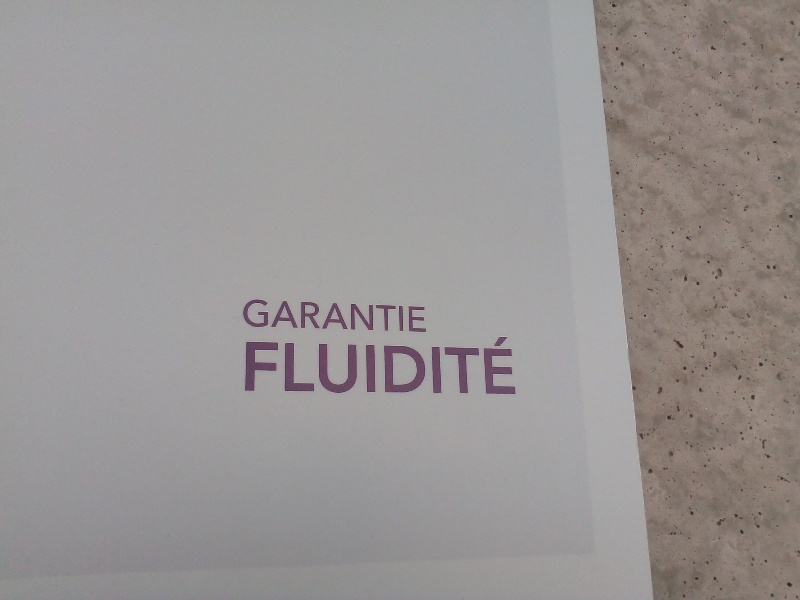text: (257, 334, 272, 395), (273, 334, 288, 395), (289, 334, 304, 395), (305, 334, 320, 395), (321, 334, 336, 395), (337, 334, 352, 395), (353, 334, 368, 395), (369, 334, 384, 395), (385, 334, 400, 395), (401, 334, 416, 395), (417, 334, 432, 395), (433, 334, 448, 395), (449, 334, 464, 395), (465, 334, 480, 395), (481, 334, 496, 395), (497, 334, 512, 395), (245, 334, 256, 395), (257, 299, 272, 333), (273, 299, 288, 333), (289, 299, 304, 333), (305, 299, 320, 333), (321, 299, 336, 333), (337, 299, 352, 333), (353, 299, 368, 333), (369, 299, 384, 333), (385, 299, 400, 333), (401, 299, 416, 333), (243, 299, 256, 333), (417, 299, 427, 333), (513, 334, 516, 395)
